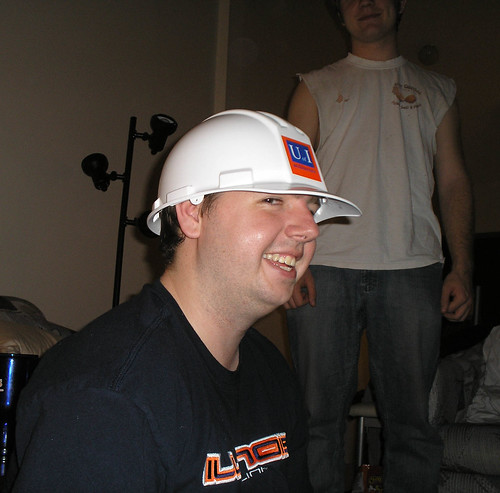person hardhat: (38, 102, 336, 491)
